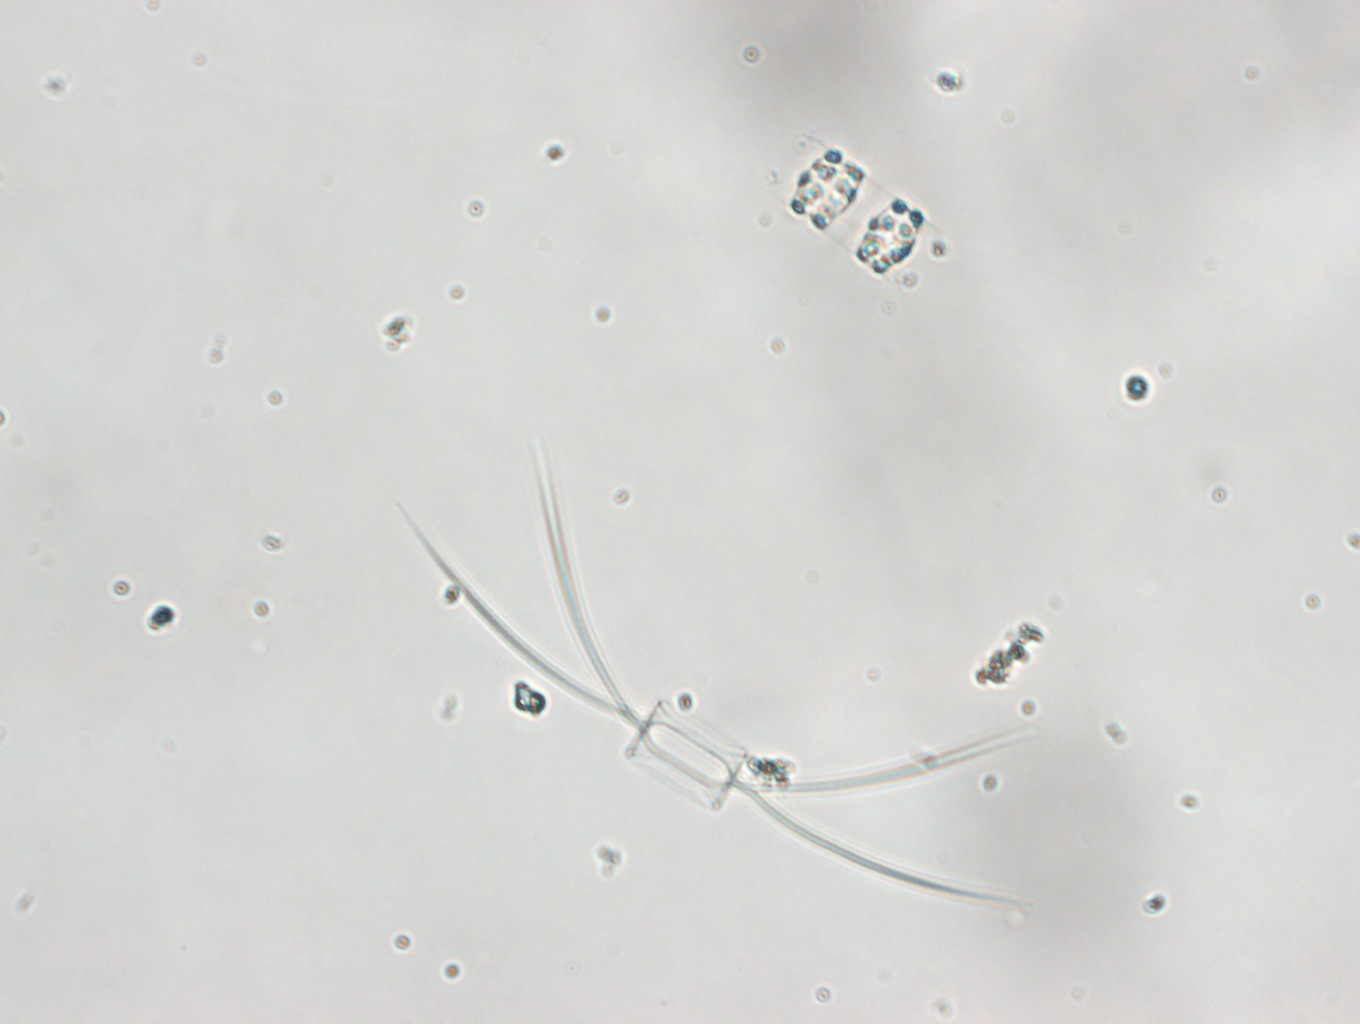chaetoceros: (401, 443, 1027, 902)
skeletonema: (774, 140, 950, 285)
